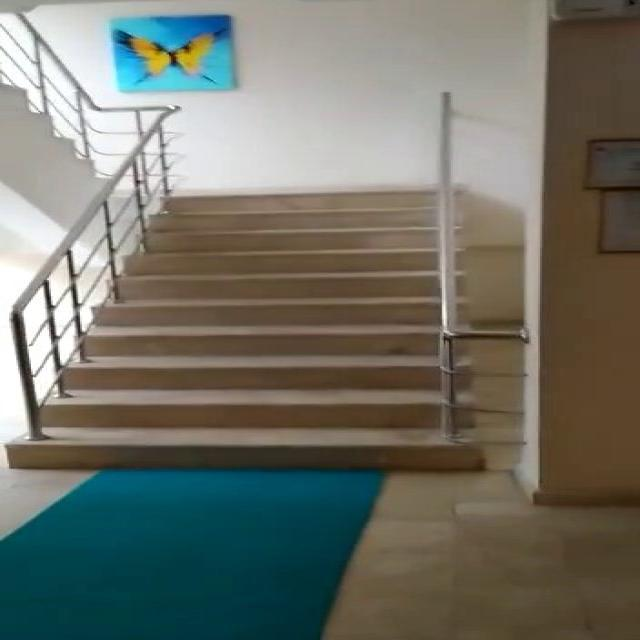stair: (1, 176, 505, 476)
